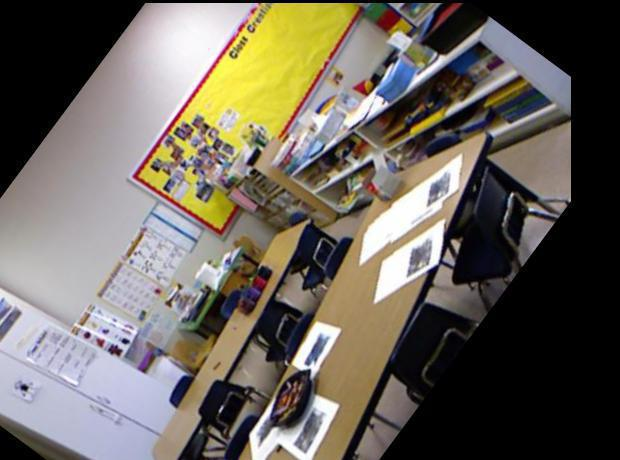Electrodomestico: (0, 289, 220, 460)
